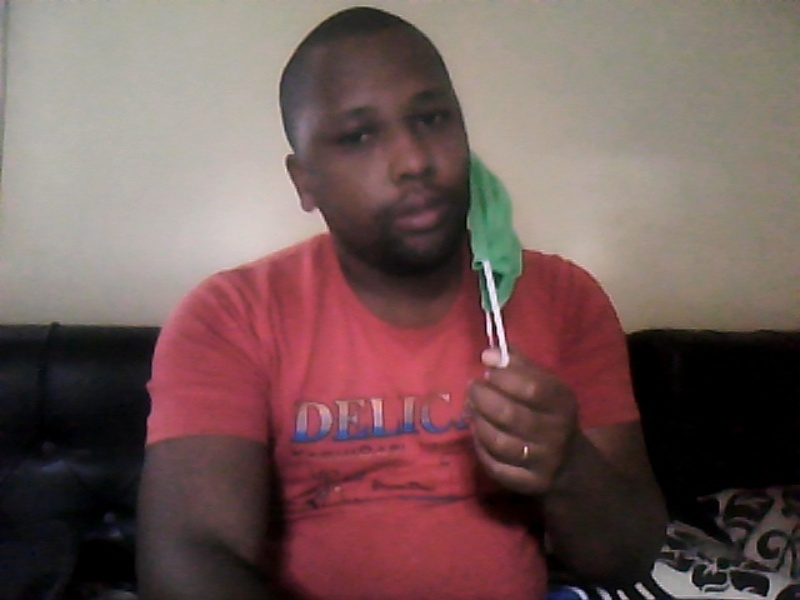TsisyArotava: (275, 15, 491, 278)
